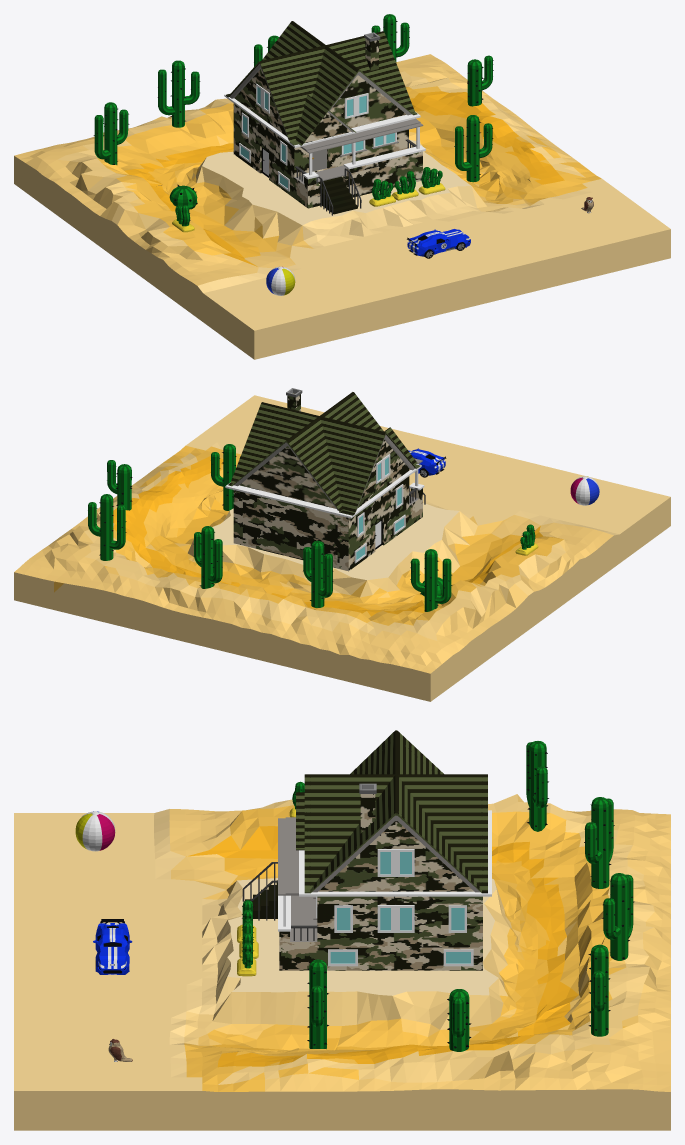
3 views of the same model, one above another, from view 1: azimuth 30°, elevation 25°; view 2: azimuth 150°, elevation 25°; view 3: azimuth 270°, elevation 25° (orthographic). The views are drawn at different scales.
Parts seen in each view (by area): view 1: Cube.001, Cube.002, Cylinder.037, Cylinder.044, Cylinder.045, VEHICLES_RACING_CAR, Cylinder.038, Cylinder.042, OBJRANDOM_BEACHBALL, Cylinder.039, Cylinder.041, Sphere.023 (+1 smaller); view 2: Cube.001, Cube.002, Cylinder.042, Cylinder.045, Cylinder.044, Cylinder.043, Cylinder.037, Cylinder.038, OBJRANDOM_BEACHBALL, VEHICLES_RACING_CAR; view 3: Cube.001, Cube.002, Cylinder.043, Cylinder.044, VEHICLES_RACING_CAR, Cylinder.045, Cylinder.042, Cylinder.037, OBJRANDOM_BEACHBALL, Cylinder.038, Cylinder.041.
Part boxes in pixels (<box>): Cube.001: <box>14,54,670,359</box>; Cube.002: <box>224,21,425,215</box>; Cylinder.037: <box>454,115,493,182</box>; Cylinder.044: <box>157,60,200,127</box>; Cylinder.045: <box>93,102,129,164</box>; VEHICLES_RACING_CAR: <box>407,229,470,258</box>; Cylinder.038: <box>467,55,493,106</box>; Cylinder.042: <box>371,14,409,62</box>; OBJRANDOM_BEACHBALL: <box>266,266,295,295</box>; Cylinder.039: <box>369,179,395,206</box>; Cylinder.041: <box>418,167,445,194</box>; Sphere.023: <box>169,184,197,209</box>; Cube.001: <box>14,395,670,701</box>; Cube.002: <box>225,388,425,571</box>; Cylinder.042: <box>88,494,126,560</box>; Cylinder.045: <box>410,549,452,611</box>; Cylinder.044: <box>303,540,333,607</box>; Cylinder.043: <box>193,526,222,588</box>; Cylinder.037: <box>211,444,240,510</box>; Cylinder.038: <box>107,460,132,510</box>; OBJRANDOM_BEACHBALL: <box>570,476,599,505</box>; VEHICLES_RACING_CAR: <box>408,448,446,477</box>; Cube.001: <box>14,794,670,1130</box>; Cube.002: <box>242,730,491,970</box>; Cylinder.043: <box>602,873,634,960</box>; Cylinder.044: <box>584,797,614,888</box>; VEHICLES_RACING_CAR: <box>93,919,132,974</box>; Cylinder.045: <box>526,741,548,831</box>; Cylinder.042: <box>588,944,610,1036</box>; Cylinder.037: <box>307,959,328,1048</box>; OBJRANDOM_BEACHBALL: <box>75,811,115,851</box>; Cylinder.038: <box>447,989,471,1051</box>; Cylinder.041: <box>237,933,256,976</box>.
Bounding box in the file's own units: 4002 × 1731 × 4001.
33 materials, 4 textured.
